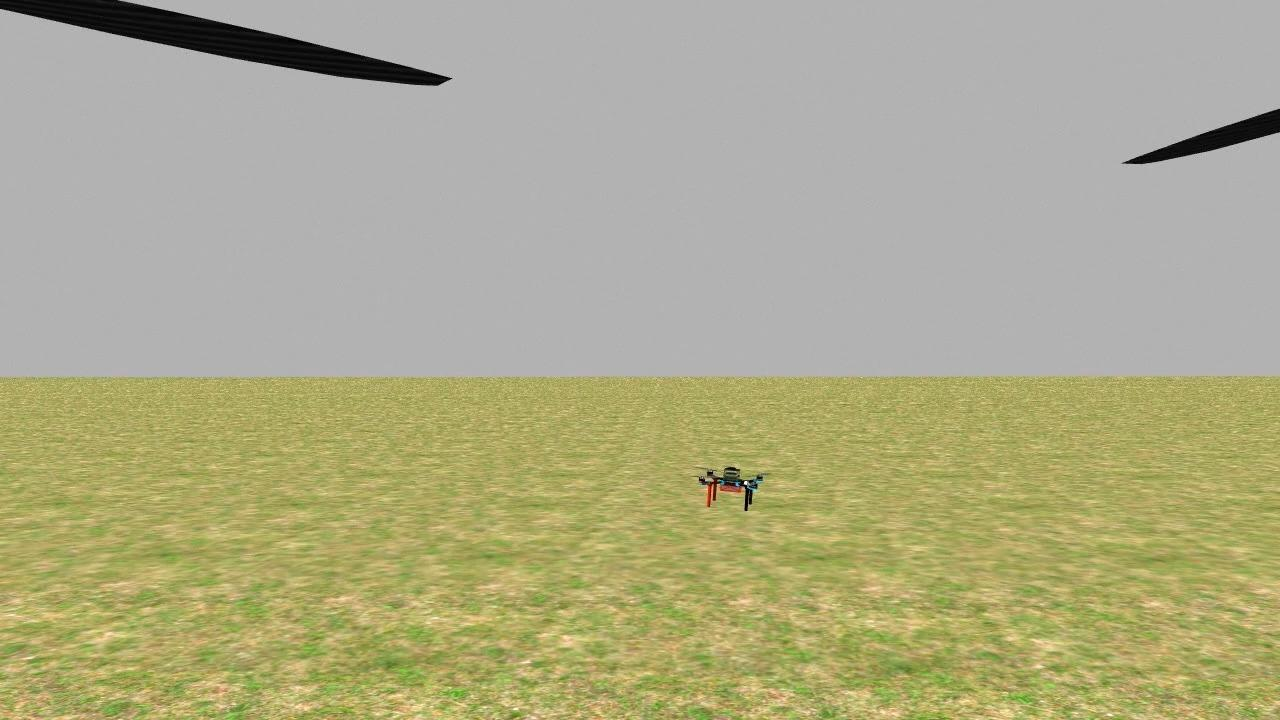UAV: (688, 451, 773, 520)
